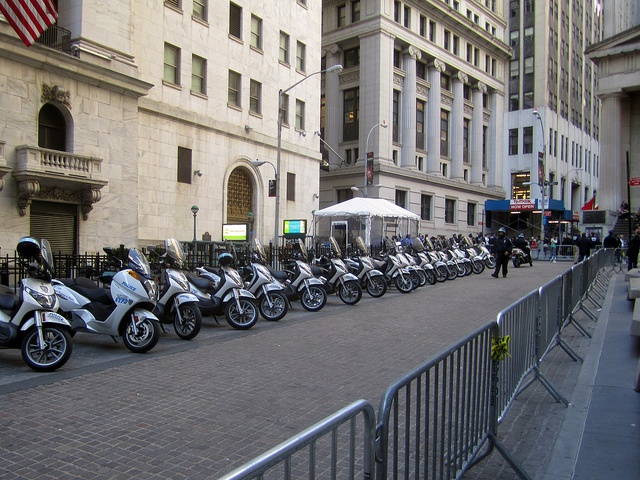non-vehicle: (51, 246, 160, 347), (0, 235, 78, 374), (195, 237, 289, 321), (149, 237, 204, 340), (284, 235, 364, 304), (187, 261, 256, 332), (273, 237, 325, 311), (354, 236, 388, 299), (368, 253, 413, 292), (423, 237, 449, 281), (411, 247, 436, 285), (404, 252, 425, 286), (445, 249, 466, 277)
